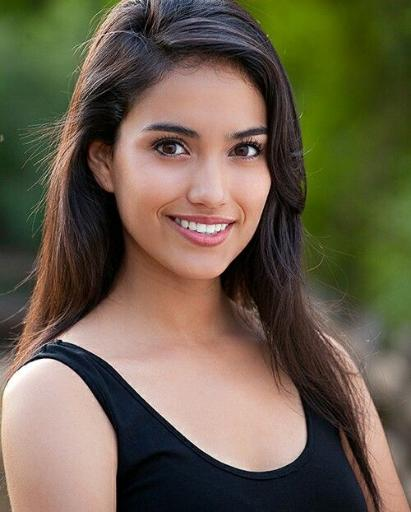left_eye: (228, 140, 266, 163)
left_lip_corner: (229, 215, 244, 231)
right_eye: (149, 138, 192, 162)
right_lip_corner: (161, 209, 176, 228)
